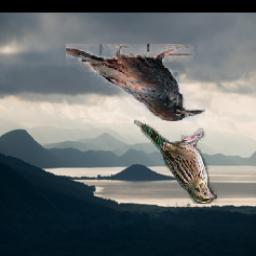Crow: (65, 44, 204, 121)
Sparrow: (133, 120, 216, 205)
